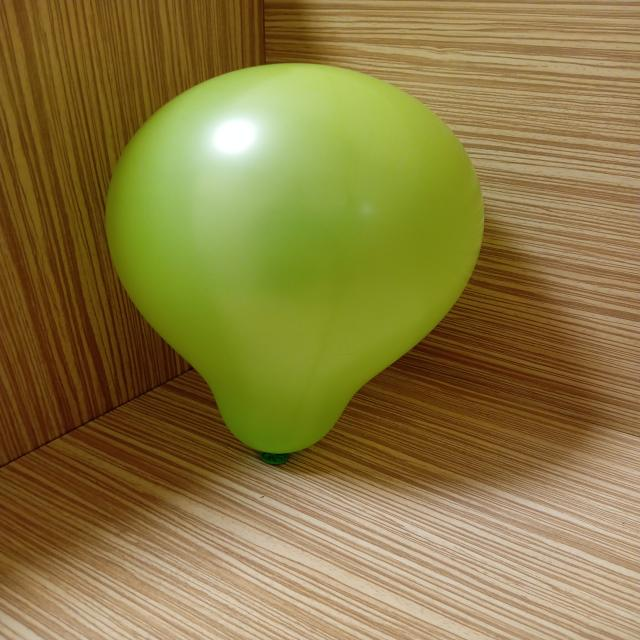balloon: (106, 64, 484, 458)
